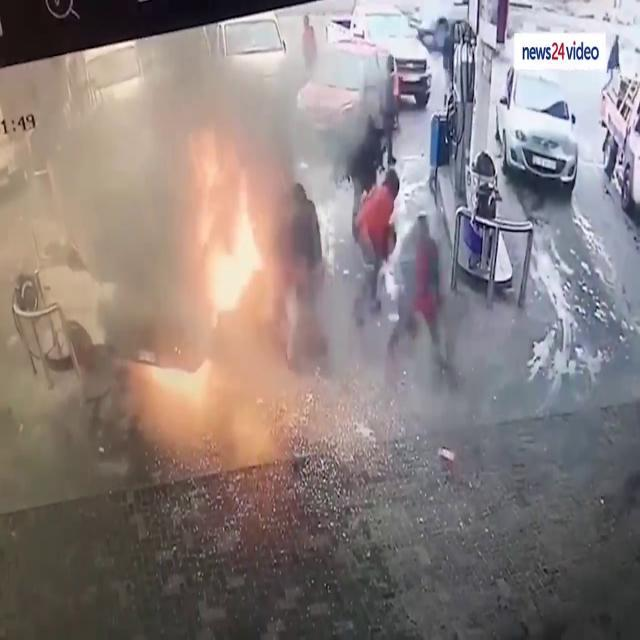Fire: (192, 142, 270, 324)
